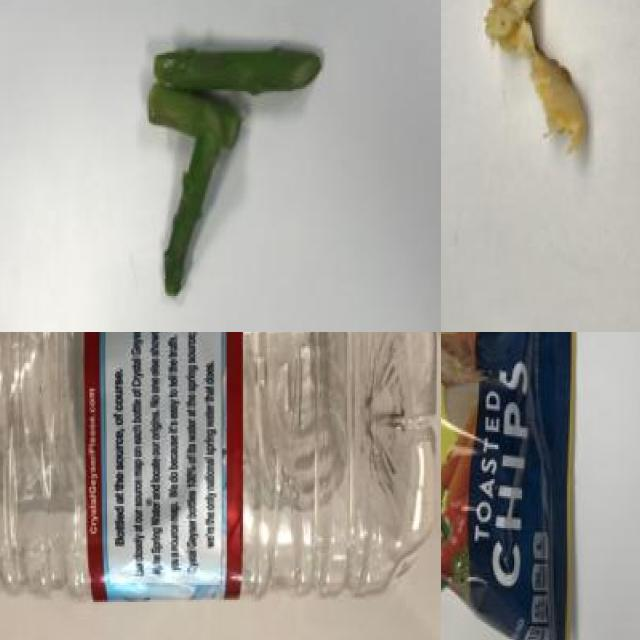compost: (130, 30, 342, 312), (457, 0, 624, 185)
plastic: (0, 332, 441, 610)
trash: (441, 332, 583, 640)
